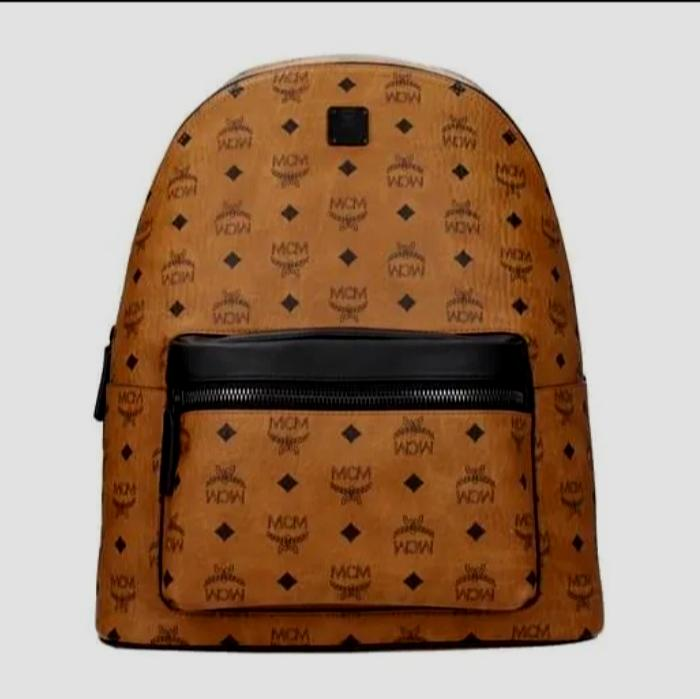MCM: (94, 44, 604, 656)
